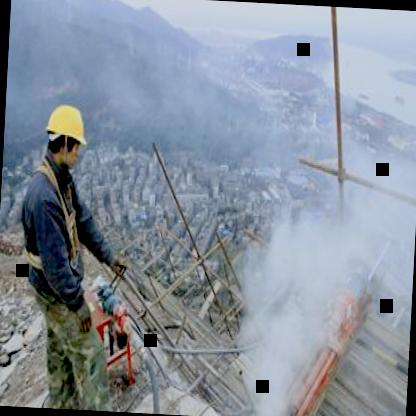helmet: (41, 96, 91, 176)
